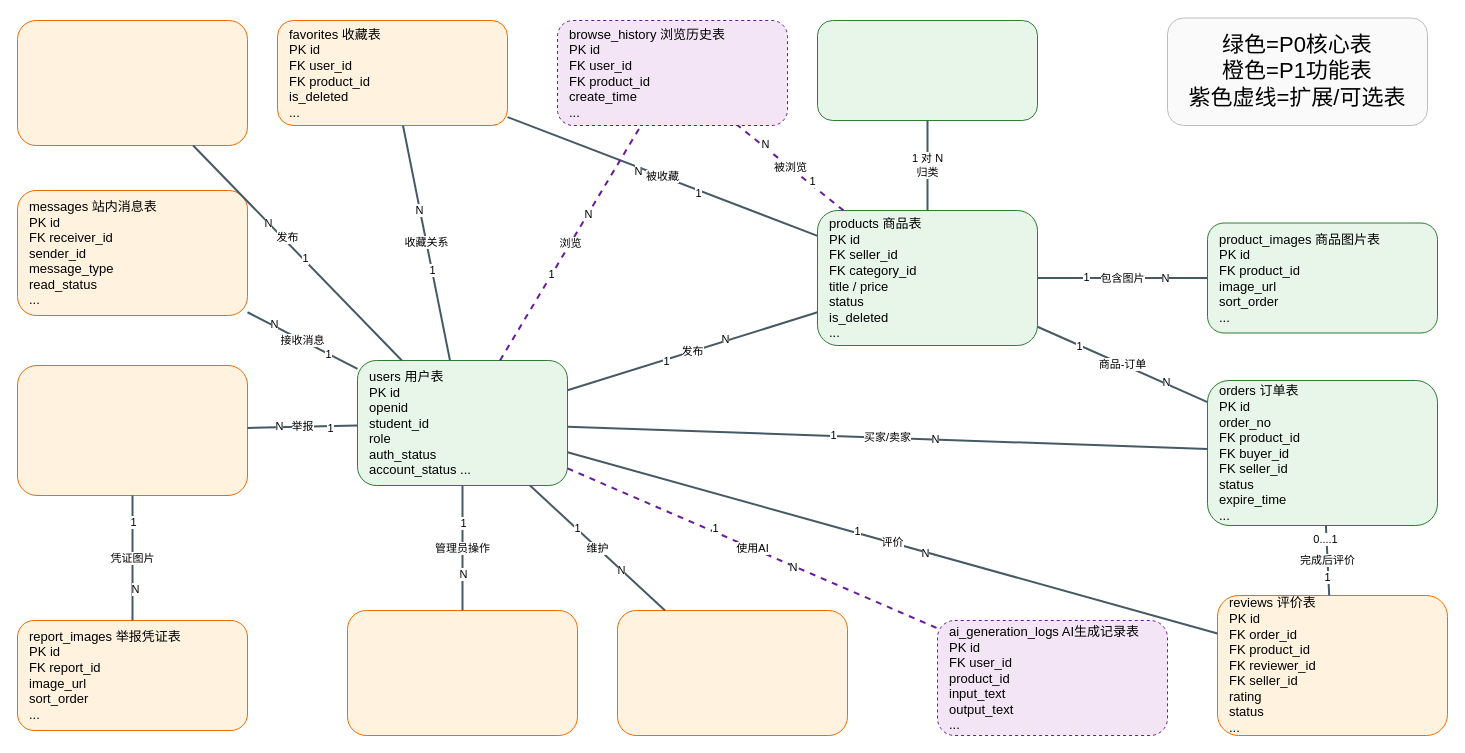
This 1465x753 diagram has some shape labels left out. Here are the shapes that lost their labels. From the top down, the centre of each, then its label:
At (x=132, y=83): "announcements 公告表 PK id title status create_by publish_time ...".
At (x=927, y=70): "categories 分类表 PK id name parent_id status ...".
At (x=132, y=430): "reports 举报表 PK id FK reporter_id target_type target_id status handler_id ...".
At (x=462, y=673): "admin_logs 管理员日志表 PK id FK admin_id operation_type target_type target_id ...".
At (x=732, y=673): "sensitive_words 敏感词表 PK id word word_type status create_by ...".
